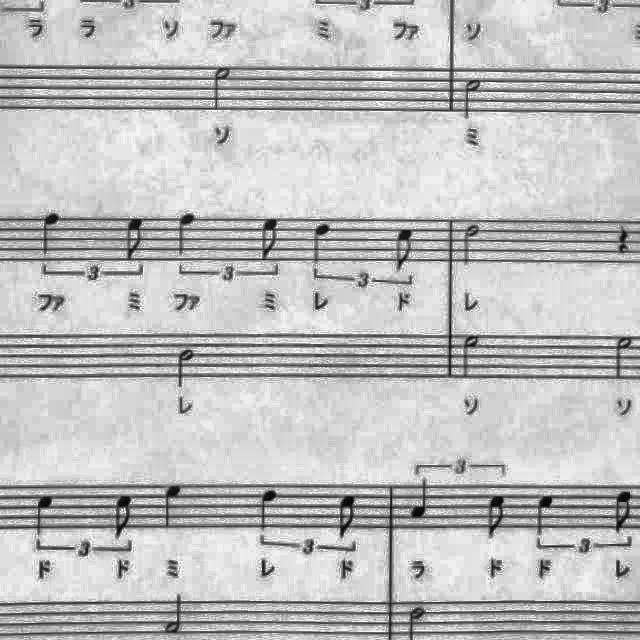Eighth-note: (108, 491, 140, 545), (482, 491, 514, 545), (256, 212, 288, 264), (120, 212, 152, 264), (332, 492, 364, 544), (608, 487, 640, 538), (389, 222, 419, 274)
Half-note: (610, 330, 640, 384), (207, 62, 237, 115), (156, 592, 188, 640), (456, 218, 484, 270), (457, 330, 485, 382), (457, 74, 487, 122), (172, 346, 200, 394)
Quarter-note: (304, 217, 336, 269), (528, 490, 560, 542), (28, 490, 60, 542), (158, 478, 190, 530), (252, 483, 284, 532), (36, 208, 66, 260), (171, 210, 201, 260), (407, 476, 438, 524)
Quarter-rest: (611, 217, 639, 260)
